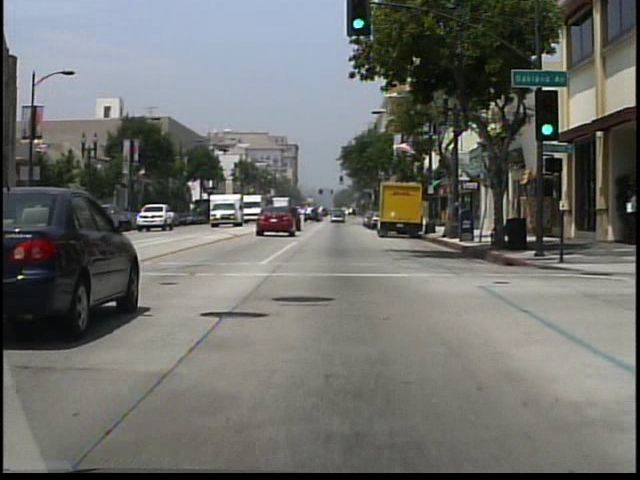person: (624, 197, 636, 244)
